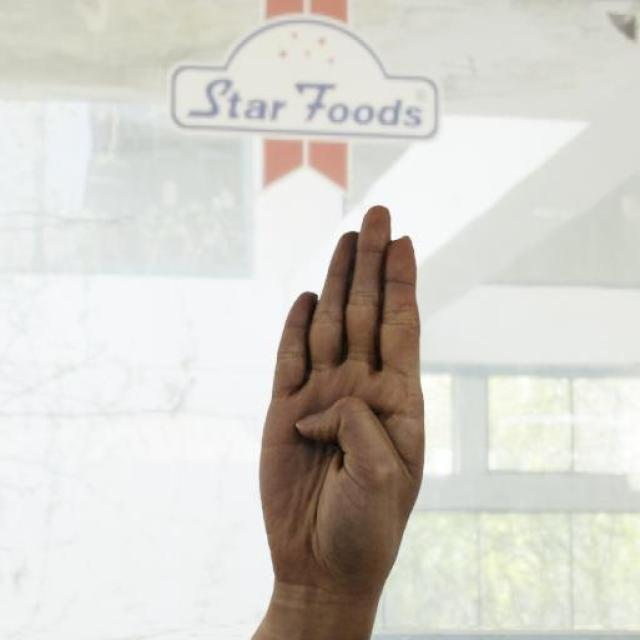B: (258, 204, 421, 584)
